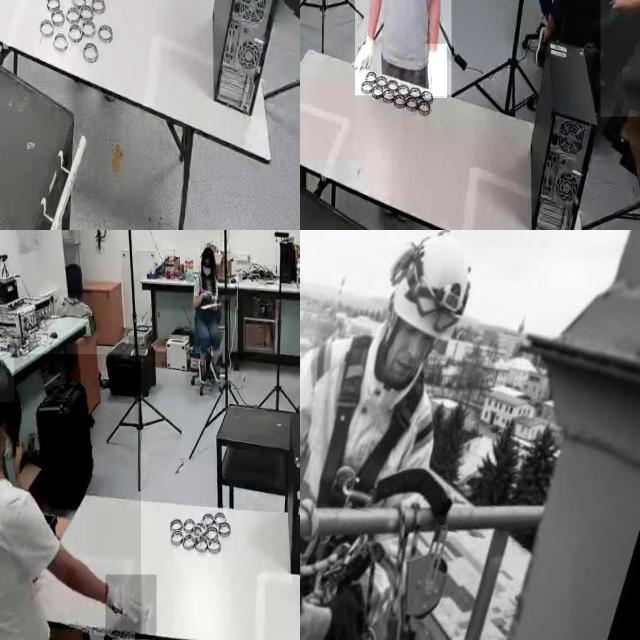Harness: (318, 336, 453, 524)
face_mask: (201, 262, 213, 276)
hand_glove: (105, 574, 156, 640), (352, 28, 374, 86), (426, 44, 448, 99)
head_nohelmet: (0, 353, 14, 402), (200, 247, 214, 259)
person: (0, 354, 141, 640), (355, 0, 452, 96), (192, 246, 225, 390), (600, 0, 640, 117)
shoes: (209, 357, 222, 384), (197, 355, 207, 385)
